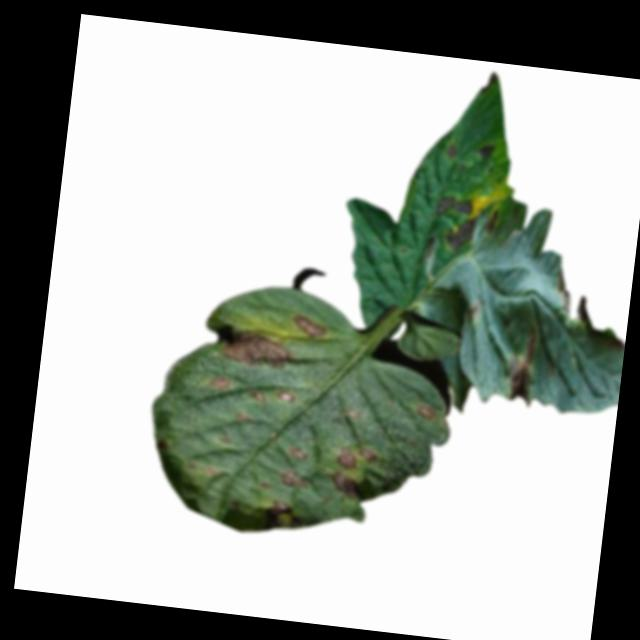Early_blight: (498, 317, 544, 404), (213, 331, 295, 372), (325, 439, 378, 472), (550, 262, 577, 321), (326, 467, 365, 501), (431, 191, 474, 219), (291, 313, 331, 341), (448, 216, 478, 253), (279, 465, 308, 492), (204, 372, 231, 390), (273, 385, 295, 407), (284, 442, 307, 462), (269, 495, 291, 514), (248, 387, 269, 406), (475, 141, 494, 159), (416, 402, 435, 420), (443, 139, 457, 158)
